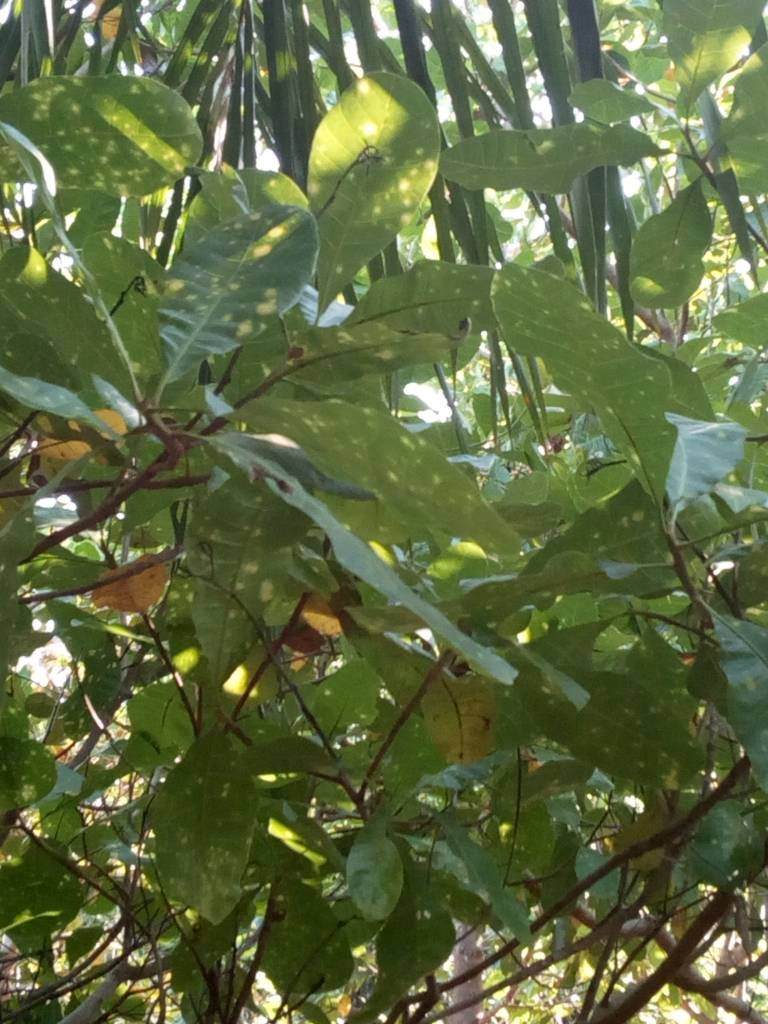Alternariose: (491, 263, 679, 511), (236, 394, 522, 549), (160, 202, 322, 374), (5, 77, 200, 196)
